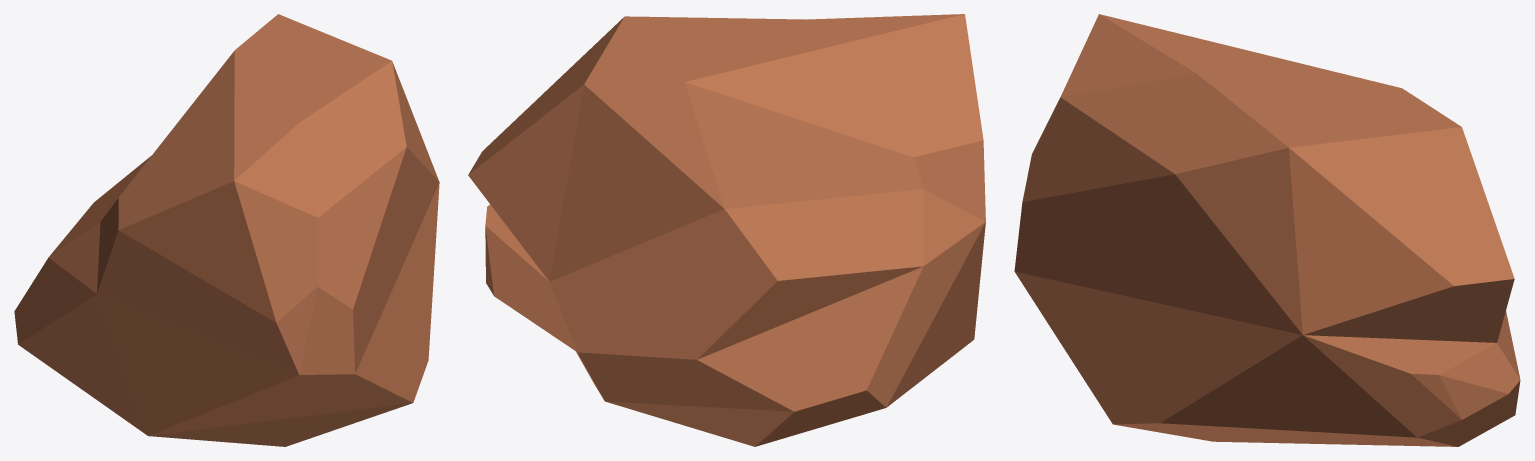
File: Med_Rock_003.fbx
The picture shows the model from 3 angles, left to right: view 1: azimuth 30°, elevation 25°; view 2: azimuth 150°, elevation 25°; view 3: azimuth 270°, elevation 25°; orthographic projection. The views are drawn at different scales.
Parts seen in each view (by area): view 1: Med_Rock_003; view 2: Med_Rock_003; view 3: Med_Rock_003.
Part boxes in pixels (bbox=[...]): Med_Rock_003: bbox=[14, 14, 439, 446]; Med_Rock_003: bbox=[468, 14, 985, 446]; Med_Rock_003: bbox=[1014, 14, 1520, 446].
Bounding box in the file's own units: 2.16 × 1.7 × 2.1.
